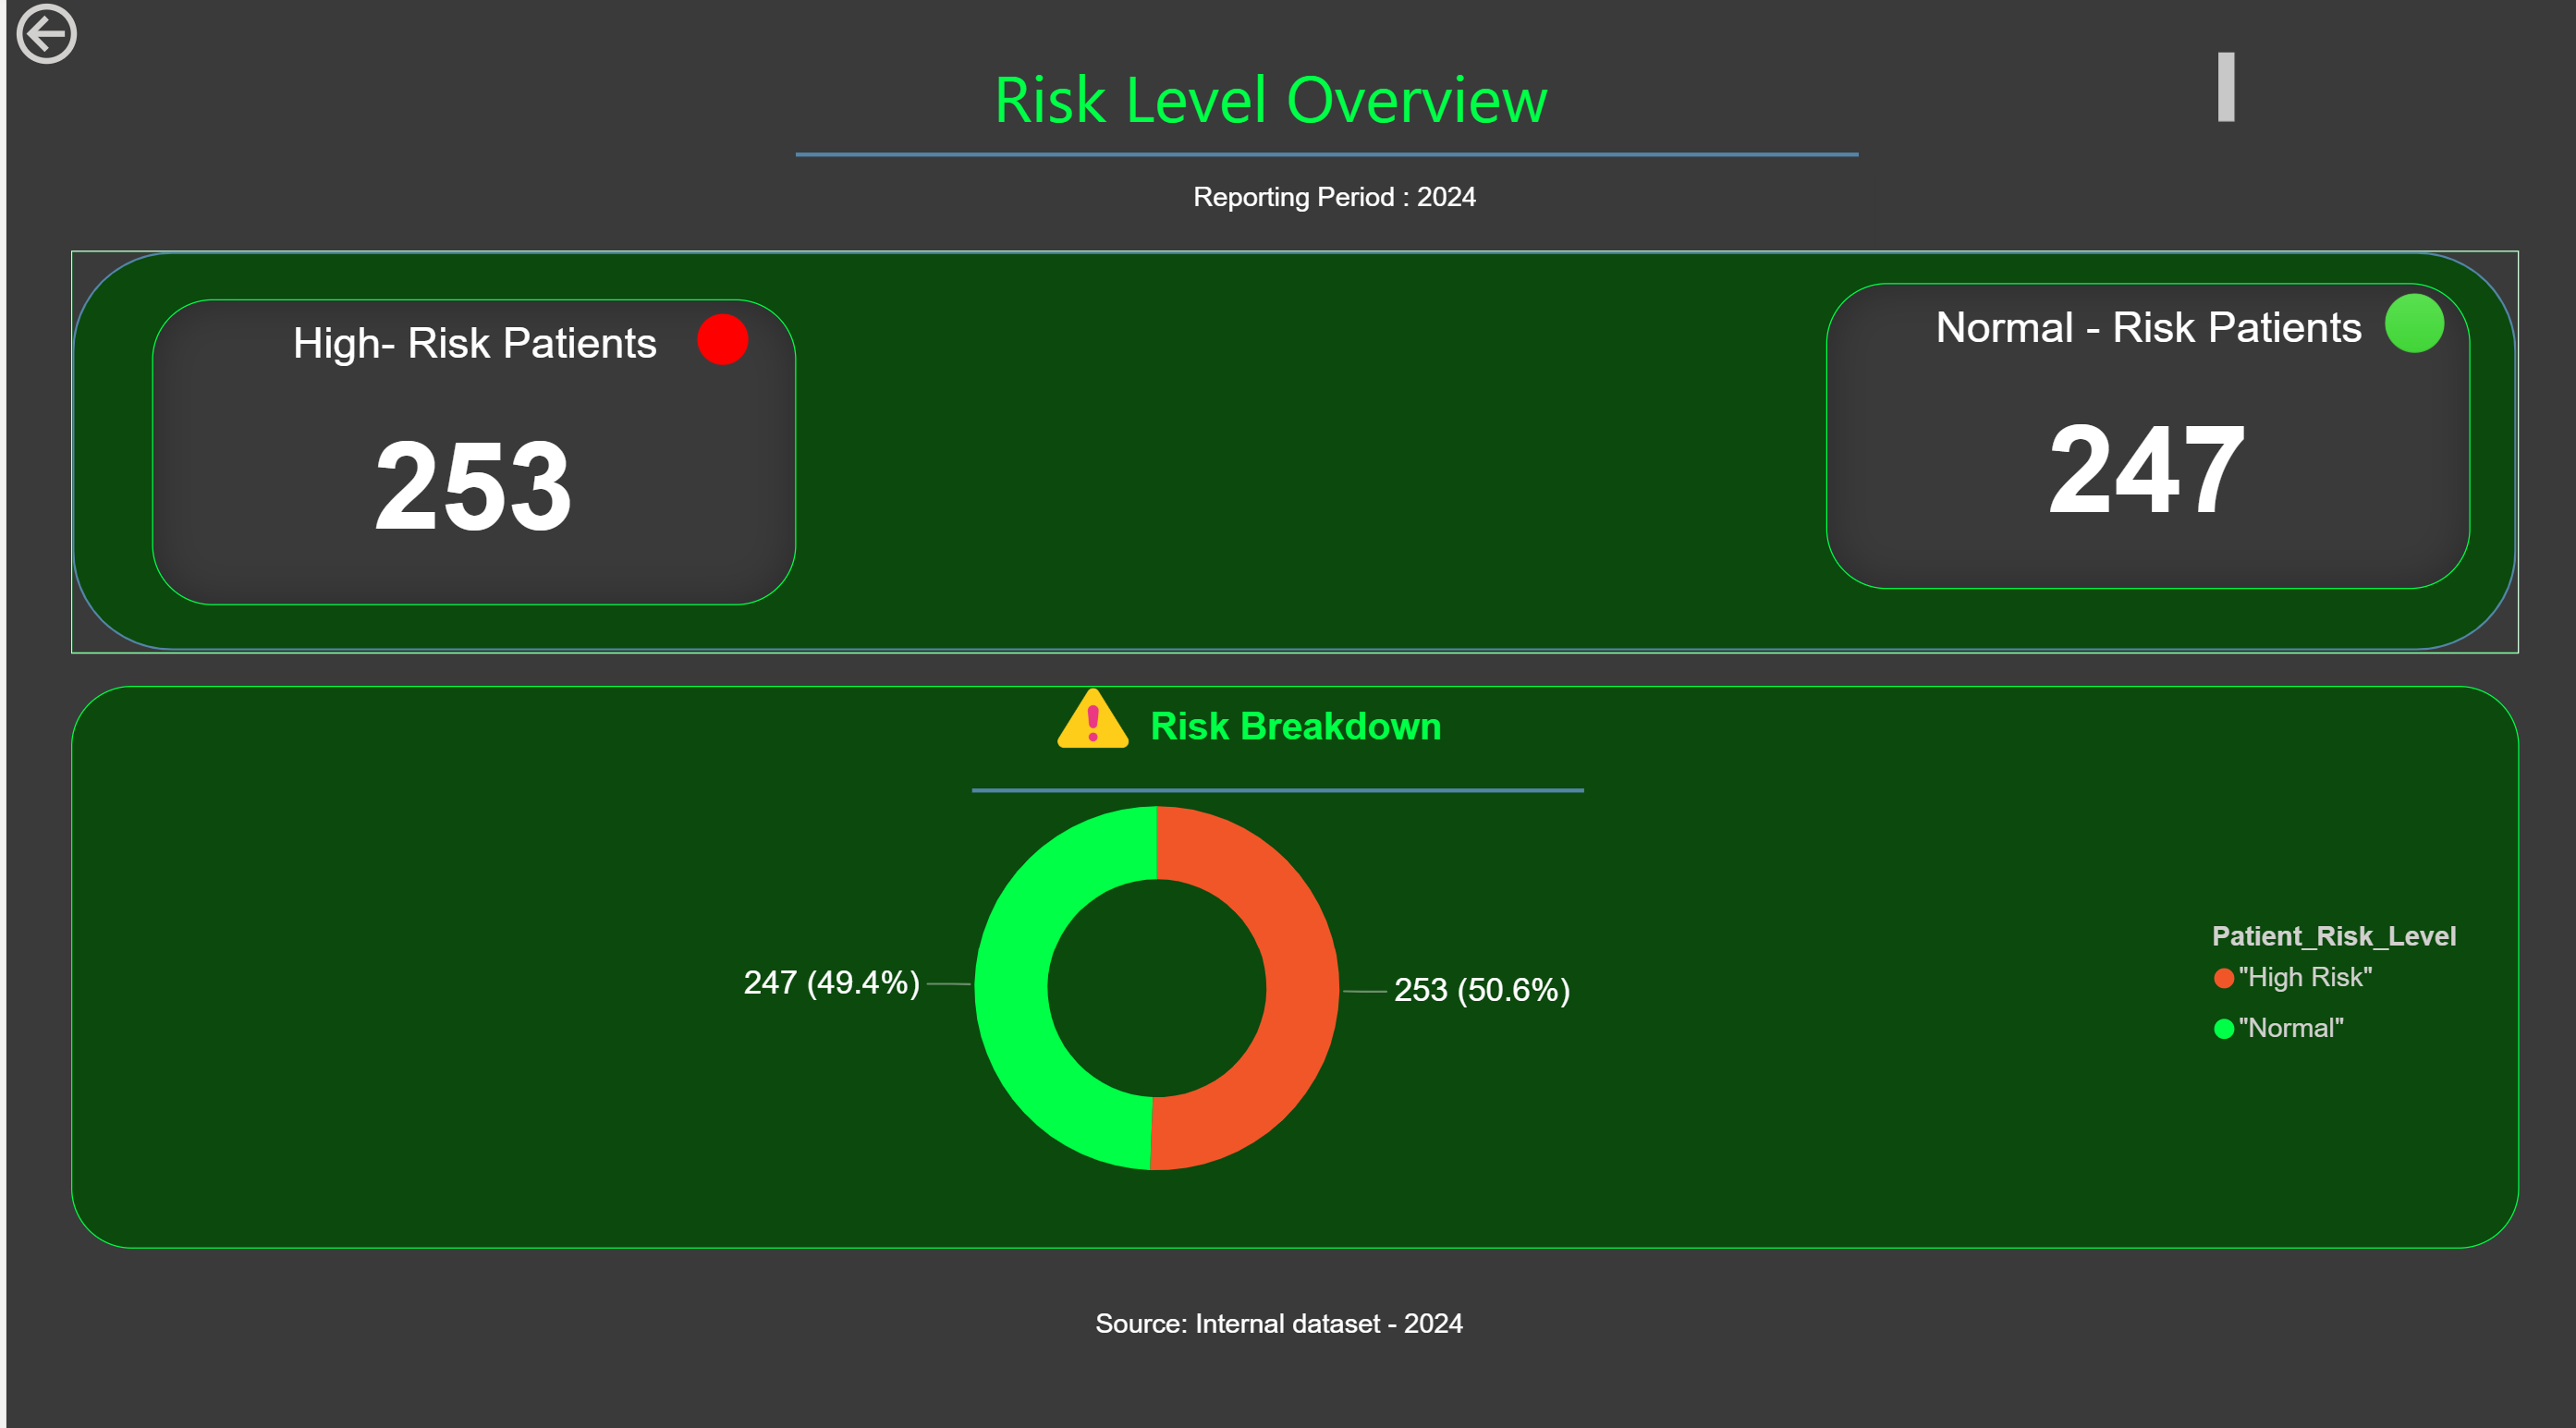

What the dashboard file says about the page in this screenshot:
{"tool":"powerbi","page":{"name":"Risk Level","canvas":[1280,720],"ordinal":3},"visuals":[{"type":"actionButton","box":[0,0,100,40],"z":0},{"type":"textbox","box":[152,24,960,48],"z":1000},{"type":"shape","box":[392,0,528,160],"z":2000},{"type":"textbox","box":[392,88,536,56],"z":3000},{"type":"shape","box":[32,128,1216,200],"z":4000},{"type":"card","title":"High- Risk Patients","fields":{"Values":["CountNonNull(Sheet1.Patient_ID)"]},"box":[72,152,320,152],"z":5000},{"type":"card","title":"Normal - Risk Patients","fields":{"Values":["CountNonNull(Sheet1.Patient_ID)"]},"box":[904,144,320,152],"z":6000},{"type":"image","box":[1176,128,40,72],"z":7000},{"type":"image","box":[336,136,40,72],"z":8000},{"type":"donutChart","title":" Risk Breakdown","fields":{"Category":["Sheet1.Patient_Risk_Level"],"Y":["CountNonNull(Sheet1.Patient_ID)"]},"box":[32,344,1216,280],"z":9000},{"type":"textbox","box":[536,648,200,48],"z":10000},{"type":"shape","box":[480,344,304,104],"z":11000},{"type":"image","box":[512,336,56,48],"z":12000}]}

Visuals, with their boxes in screenshot pixels (x1, y1, x2, y2), scaled from the page's 1280x720 canvas onto the 2576x1428 screenshot:
actionButton: bbox=(0, 0, 201, 79)
textbox: bbox=(306, 48, 2238, 142)
shape: bbox=(789, 0, 1851, 317)
textbox: bbox=(789, 175, 1868, 286)
shape: bbox=(65, 254, 2511, 651)
"High- Risk Patients" card: bbox=(145, 301, 789, 603)
"Normal - Risk Patients" card: bbox=(1819, 286, 2463, 587)
image: bbox=(2367, 254, 2448, 397)
image: bbox=(677, 270, 757, 412)
" Risk Breakdown" donutChart: bbox=(65, 682, 2511, 1238)
textbox: bbox=(1079, 1285, 1482, 1381)
shape: bbox=(966, 682, 1578, 888)
image: bbox=(1031, 666, 1143, 762)
